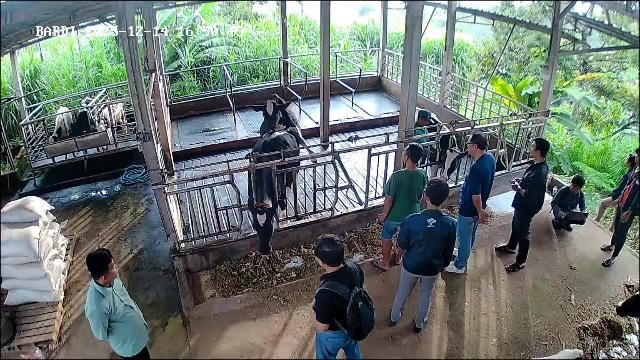mounting: (243, 95, 318, 181)
